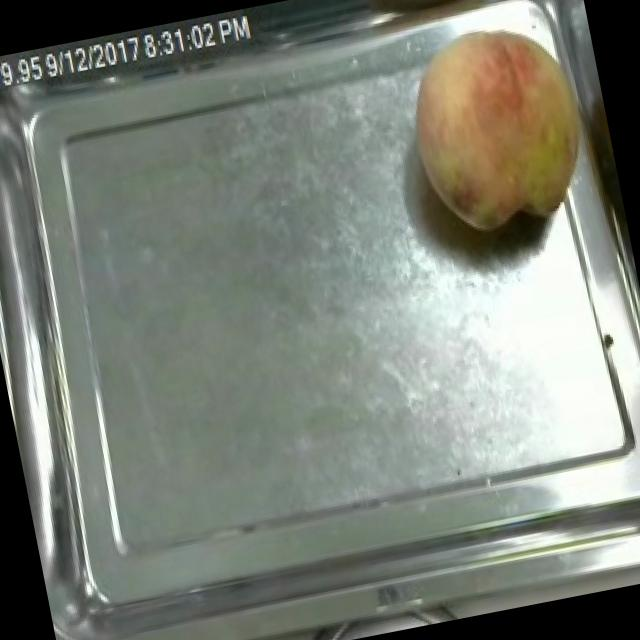Fruit: (387, 0, 617, 250)
